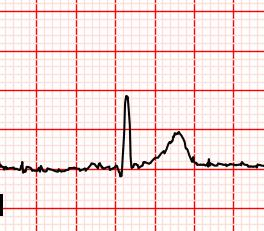Pathological Q Wave: (112, 163, 128, 181)
